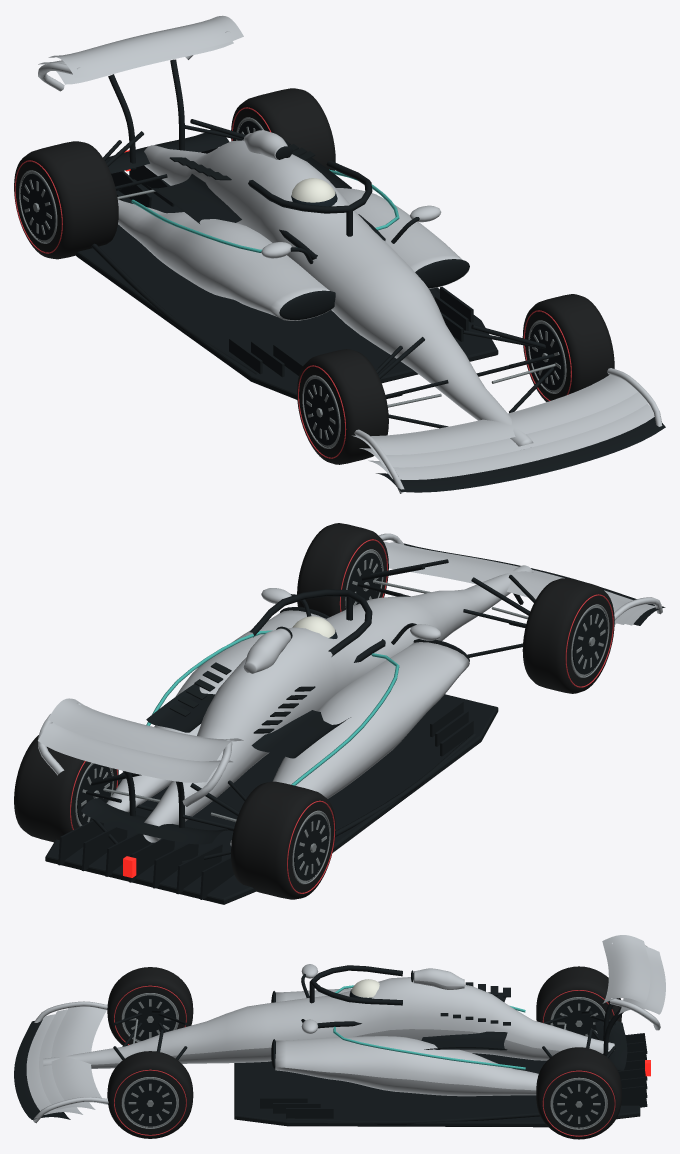
The model's file is open-wheel-low.glb.
The picture shows the model from 3 angles, top to bottom: view 1: azimuth 30°, elevation 25°; view 2: azimuth 150°, elevation 25°; view 3: azimuth 270°, elevation 25°; orthographic projection. The views are drawn at different scales.
Parts seen in each view (by area): view 1: TD_V3_OpenWheel, Wheel_RL, Wheel_FL, Wheel_FR, Wheel_RR; view 2: TD_V3_OpenWheel, Wheel_RL, Wheel_FL, Wheel_RR, Wheel_FR; view 3: TD_V3_OpenWheel, Wheel_RR, Wheel_FR, Wheel_FL, Wheel_RL.
Part boxes in pixels (x1,y1,x2,y2): TD_V3_OpenWheel: [38, 15, 665, 493]; Wheel_RL: [14, 141, 118, 259]; Wheel_FL: [297, 349, 388, 464]; Wheel_FR: [522, 294, 614, 401]; Wheel_RR: [231, 88, 335, 170]; TD_V3_OpenWheel: [38, 533, 665, 904]; Wheel_RL: [231, 781, 335, 899]; Wheel_FL: [522, 578, 614, 693]; Wheel_RR: [14, 735, 118, 842]; Wheel_FR: [297, 523, 388, 616]; TD_V3_OpenWheel: [14, 935, 665, 1127]; Wheel_RR: [536, 1047, 621, 1139]; Wheel_FR: [107, 1051, 193, 1138]; Wheel_FL: [107, 967, 193, 1045]; Wheel_RL: [536, 966, 621, 1038].
Bounding box in the file's own units: 2.07 × 1.18 × 5.47.
